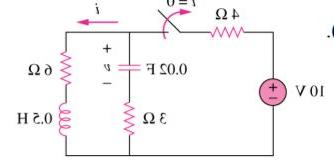inductor: (53, 88, 78, 144)
